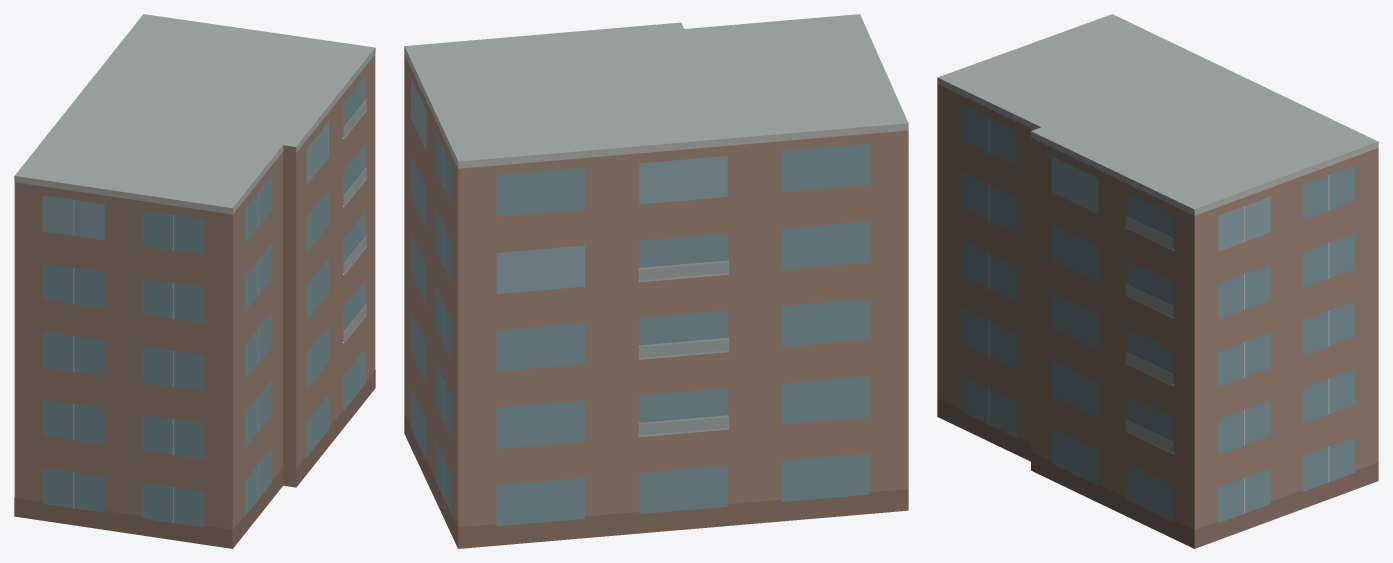
Rendered from survey-upis-32742278.glb.
3 renders of one model, left to right at view 1: azimuth 30°, elevation 25°; view 2: azimuth 150°, elevation 25°; view 3: azimuth 270°, elevation 25°, orthographic. The views are drawn at different scales.
Visible parts, largest first — view 1: survey-upis-32742278.tmp; view 2: survey-upis-32742278.tmp; view 3: survey-upis-32742278.tmp.
Boxes of the visible parts, left/top/right/bottom form: survey-upis-32742278.tmp: left=14, top=14, right=375, bottom=548; survey-upis-32742278.tmp: left=404, top=14, right=908, bottom=548; survey-upis-32742278.tmp: left=937, top=14, right=1378, bottom=548.
Bounding box in the file's own units: 16.32 × 13.2 × 15.56.
